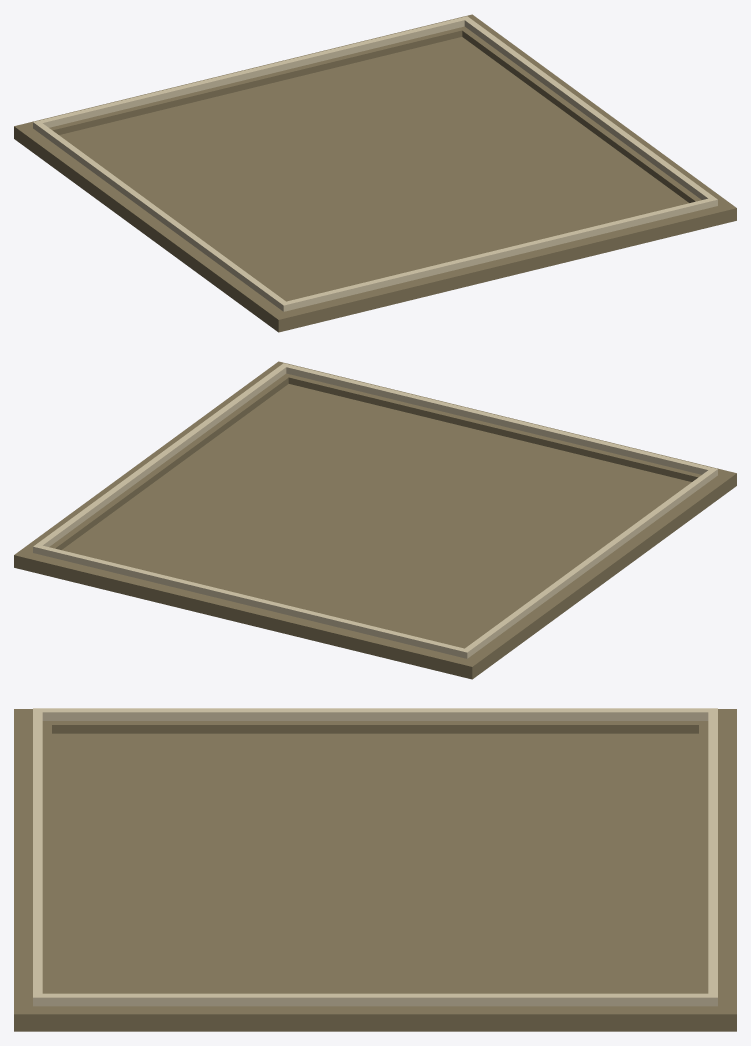
File: canvas_patch.glb
3 views of the same model, one above another, from view 1: azimuth 30°, elevation 25°; view 2: azimuth 150°, elevation 25°; view 3: azimuth 270°, elevation 25° (orthographic). The views are drawn at different scales.
Visible parts, largest first — view 1: canvas_patch:compound; view 2: canvas_patch:compound; view 3: canvas_patch:compound.
Boxes of the visible parts, x1,y1,x2,y2 form: canvas_patch:compound: (14, 14, 736, 332); canvas_patch:compound: (14, 361, 736, 679); canvas_patch:compound: (14, 708, 736, 1031).
Size of the model in its own units: 0.152 by 0.006 by 0.152.
